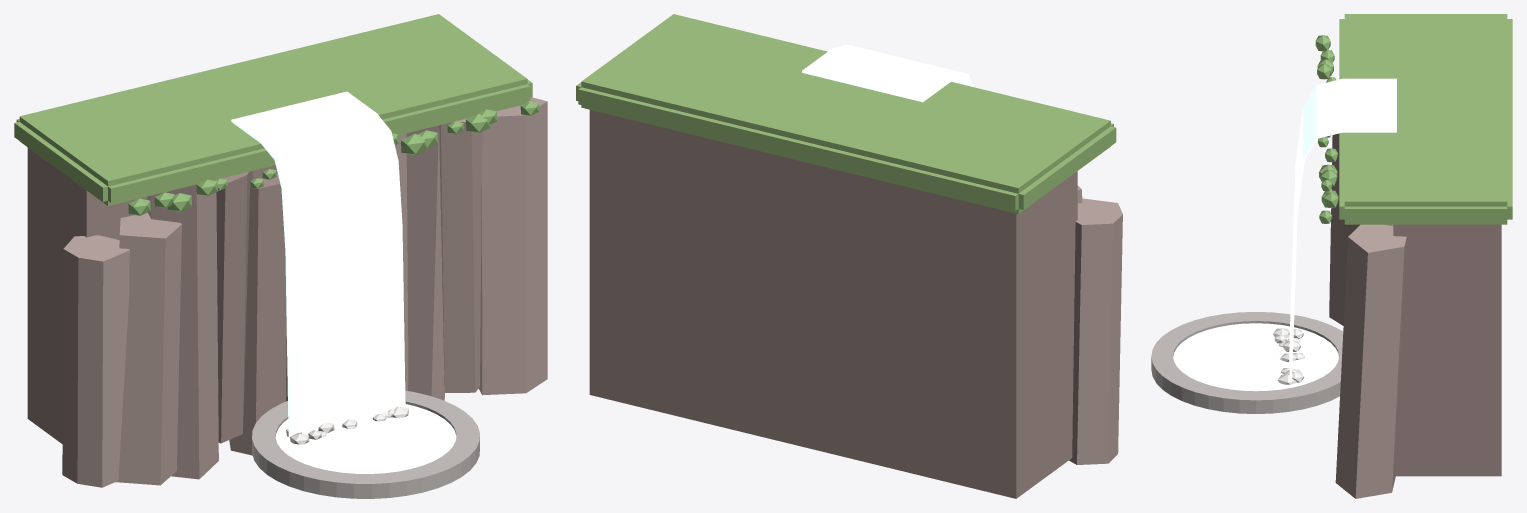
Rendered from HOB_WaterfallCliff.fbx.
The picture shows the model from 3 angles, left to right: view 1: azimuth 30°, elevation 25°; view 2: azimuth 150°, elevation 25°; view 3: azimuth 270°, elevation 25°; orthographic projection. The views are drawn at different scales.
Visible parts, largest first — view 1: HOB_WaterfallCliff; view 2: HOB_WaterfallCliff; view 3: HOB_WaterfallCliff.
Part boxes in pixels (x1,y1,x2,y2): HOB_WaterfallCliff: (14, 14, 547, 498); HOB_WaterfallCliff: (576, 14, 1122, 498); HOB_WaterfallCliff: (1151, 14, 1512, 498).
Bounding box in the file's own units: 1395 × 921 × 1000.
